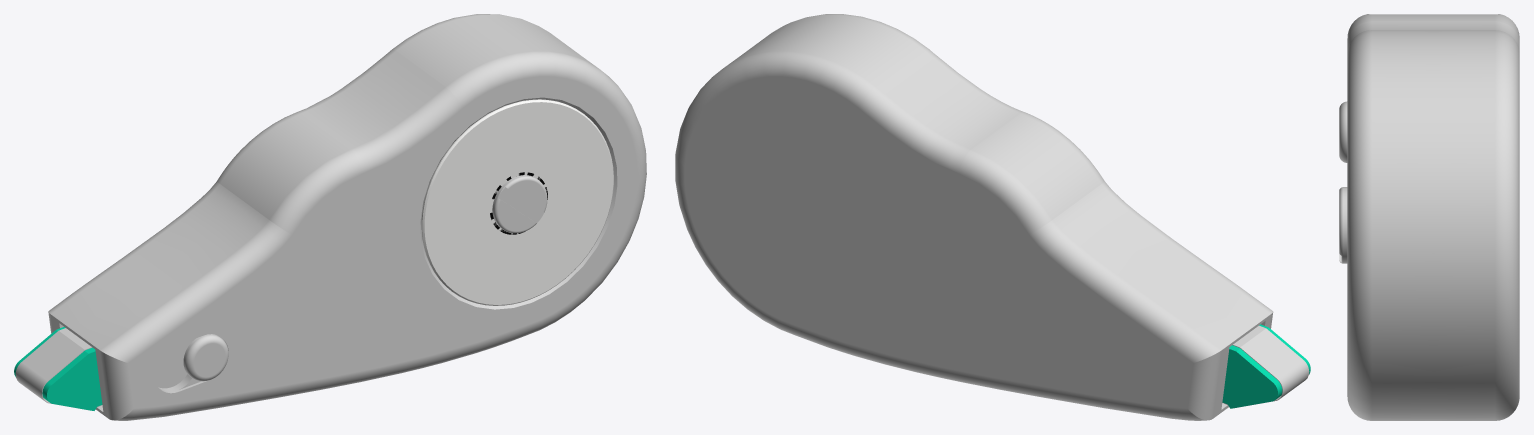
File: 215_修正テープ.glb
3 renders of one model, left to right at view 1: azimuth 30°, elevation 25°; view 2: azimuth 150°, elevation 25°; view 3: azimuth 270°, elevation 25°, orthographic. The views are drawn at different scales.
Visible parts, largest first — view 1: body; view 2: body; view 3: body.
Boxes of the visible parts, x1,y1,x2,y2 form: body: (14,14,646,420); body: (675,14,1310,420); body: (1339,14,1519,420).
Size of the model in its own units: 0.1044 by 0.0488 by 0.022.
